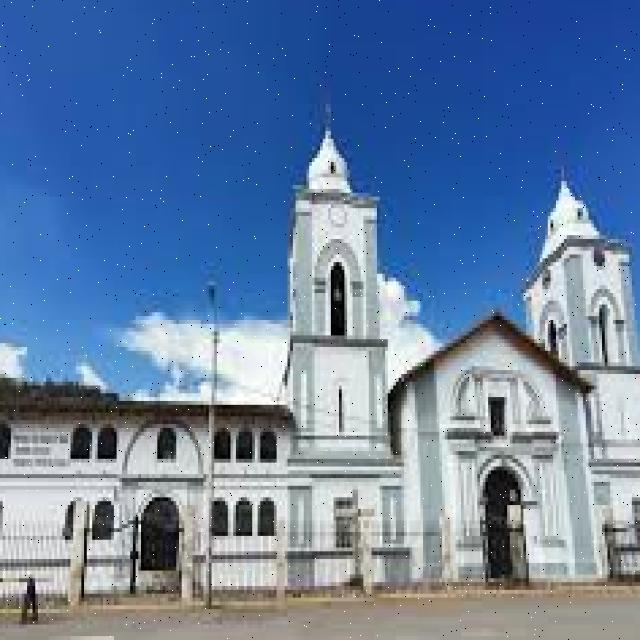CAMPANARIO: (292, 186, 392, 351), (531, 227, 640, 373)
CUPULA: (541, 178, 609, 260), (302, 132, 363, 208)
PORTADA CENTRAL: (466, 450, 552, 597)
SIMETRIA COLONIAL: (276, 116, 640, 617)
TORRES: (281, 110, 408, 596), (529, 146, 640, 590)
colonial-architecture-: (263, 85, 640, 601)
